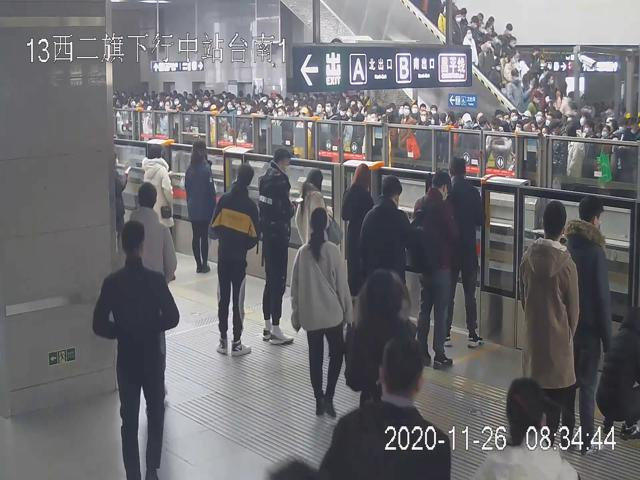person: (92, 222, 179, 480), (520, 199, 580, 432), (291, 210, 351, 416), (566, 194, 612, 454), (209, 163, 260, 355), (411, 168, 456, 368), (257, 148, 296, 347), (447, 155, 485, 348), (361, 176, 414, 288), (184, 139, 217, 272), (340, 162, 374, 272), (296, 168, 329, 245)
